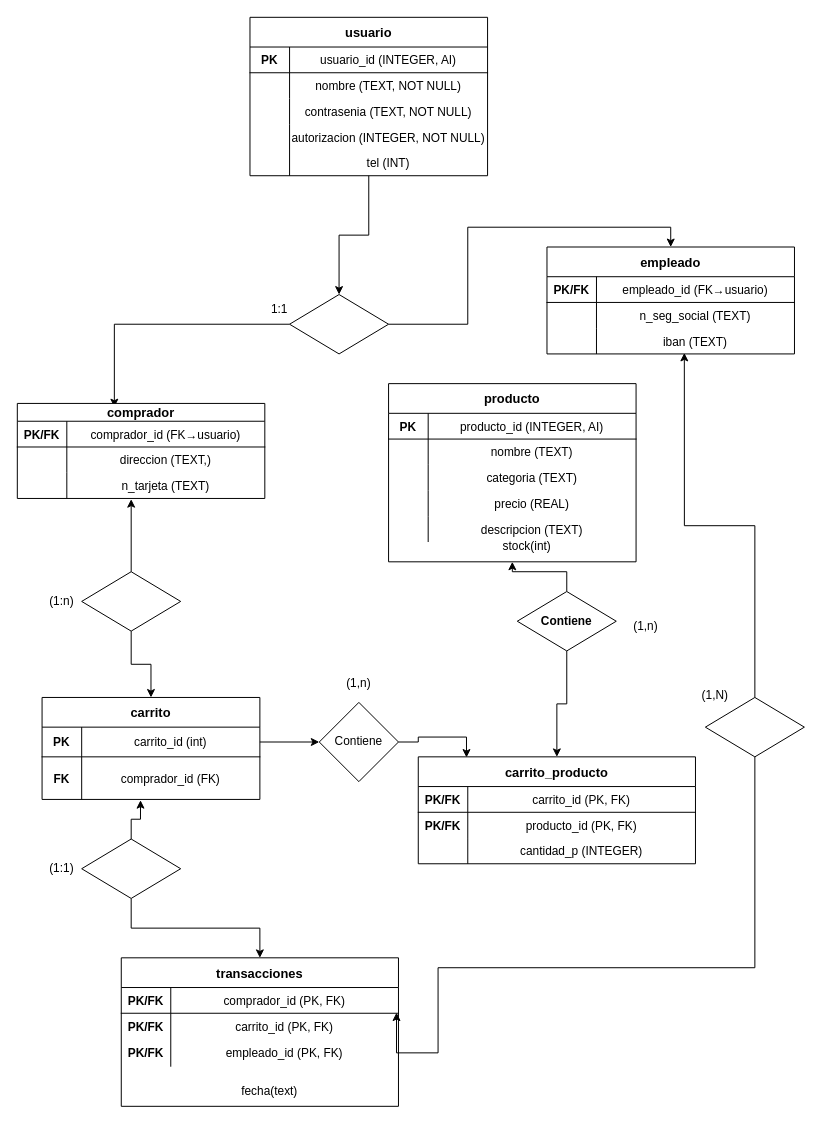
This 822x1124 diagram has some shape labels left out. The centre of each missing label's shape, as x and y in pixels:
"genera" goes at point (131, 868).
"Gestiona" goes at point (754, 726).
"Puede ser" goes at point (339, 324).
"tiene" goes at point (131, 601).
